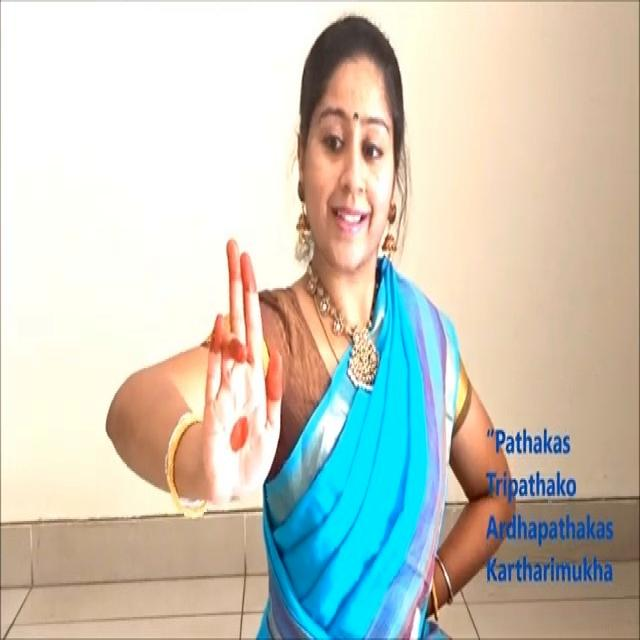Tripataka: (198, 233, 292, 525)
lady: (276, 14, 430, 300)
text: (479, 405, 623, 617)
